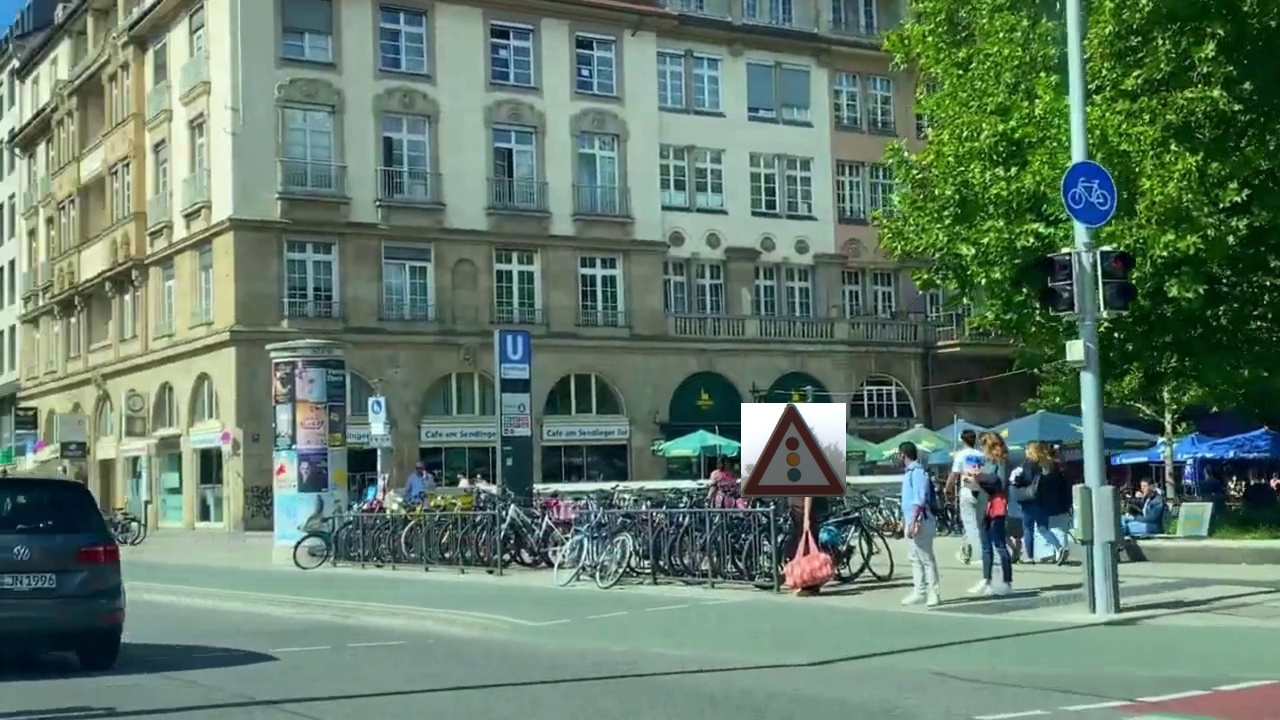Signals: (741, 403, 846, 497)
